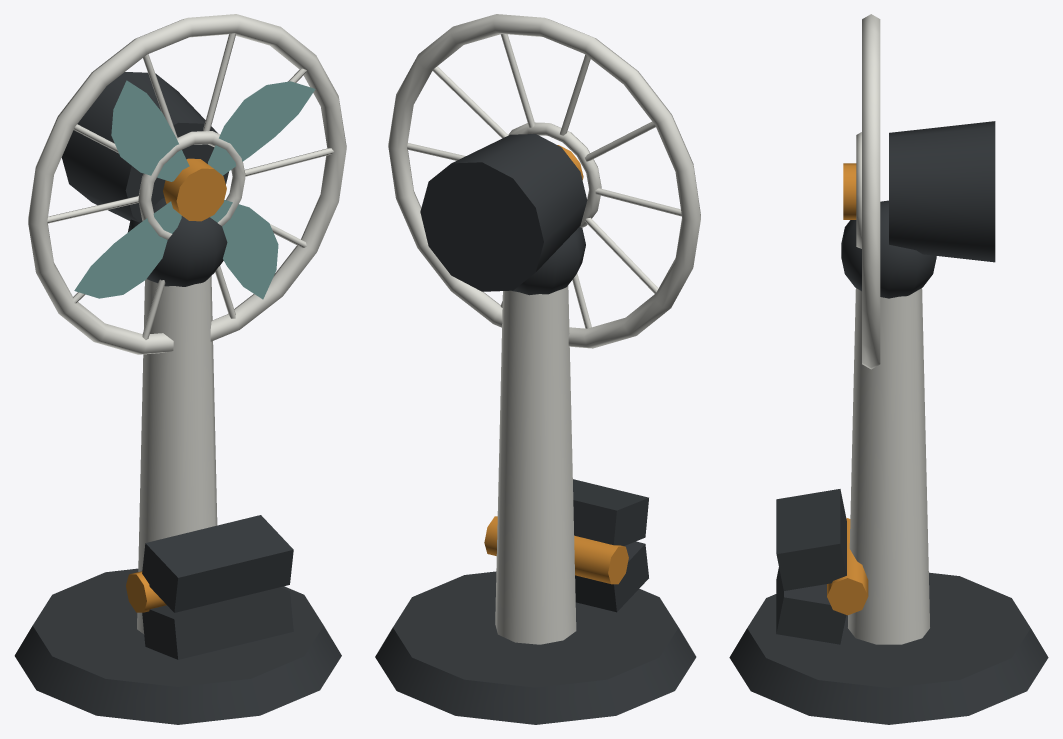
The model's file is clip-fan.glb.
The picture shows the model from 3 angles, left to right: view 1: azimuth 30°, elevation 25°; view 2: azimuth 150°, elevation 25°; view 3: azimuth 270°, elevation 25°; orthographic projection. The views are drawn at different scales.
Parts seen in each view (by area): view 1: standBase, outerCageRing, standColumn, fanBlade (×4), clipUpperJaw, motorHousing, clipLowerJaw, oscillationJoint, rotorHub, cageSpoke (×4), innerCageRing, clipHinge; view 2: standBase, standColumn, motorHousing, outerCageRing, clipUpperJaw, cageSpoke (×6), clipHinge, clipLowerJaw, oscillationJoint, innerCageRing; view 3: standBase, standColumn, motorHousing, outerCageRing, clipUpperJaw, oscillationJoint, clipLowerJaw, clipHinge, rotorHub, innerCageRing.
Part boxes in pixels (x1=…): standBase: x1=14, y1=568, x2=341, y2=724; outerCageRing: x1=28, y1=14, x2=346, y2=354; standColumn: x1=137, y1=276, x2=217, y2=634; fanBlade (×4): x1=74, y1=80, x2=315, y2=299; clipUpperJaw: x1=142, y1=515, x2=293, y2=612; motorHousing: x1=61, y1=72, x2=228, y2=222; clipLowerJaw: x1=142, y1=587, x2=293, y2=659; oscillationJoint: x1=127, y1=198, x2=227, y2=286; rotorHub: x1=163, y1=158, x2=226, y2=221; cageSpoke (×4): x1=47, y1=33, x2=333, y2=223; innerCageRing: x1=138, y1=131, x2=245, y2=239; clipHinge: x1=126, y1=571, x2=166, y2=612; standBase: x1=375, y1=571, x2=696, y2=724; standColumn: x1=495, y1=285, x2=576, y2=644; motorHousing: x1=420, y1=134, x2=587, y2=291; outerCageRing: x1=388, y1=14, x2=700, y2=348; clipUpperJaw: x1=573, y1=479, x2=648, y2=545; cageSpoke (×6): x1=432, y1=34, x2=681, y2=293; clipHinge: x1=484, y1=516, x2=628, y2=584; clipLowerJaw: x1=575, y1=541, x2=648, y2=612; oscillationJoint: x1=512, y1=227, x2=585, y2=295; innerCageRing: x1=508, y1=122, x2=601, y2=227; standBase: x1=729, y1=572, x2=1048, y2=724; standColumn: x1=848, y1=288, x2=929, y2=644; motorHousing: x1=889, y1=121, x2=995, y2=262; outerCageRing: x1=862, y1=14, x2=880, y2=369; clipUpperJaw: x1=776, y1=489, x2=846, y2=590; oscillationJoint: x1=841, y1=200, x2=936, y2=298; clipLowerJaw: x1=776, y1=567, x2=846, y2=644; clipHinge: x1=827, y1=518, x2=868, y2=615; rotorHub: x1=843, y1=163, x2=856, y2=219; innerCageRing: x1=856, y1=132, x2=861, y2=248.
Bounding box in the file's own units: 0.606 × 1.17 × 0.54.
